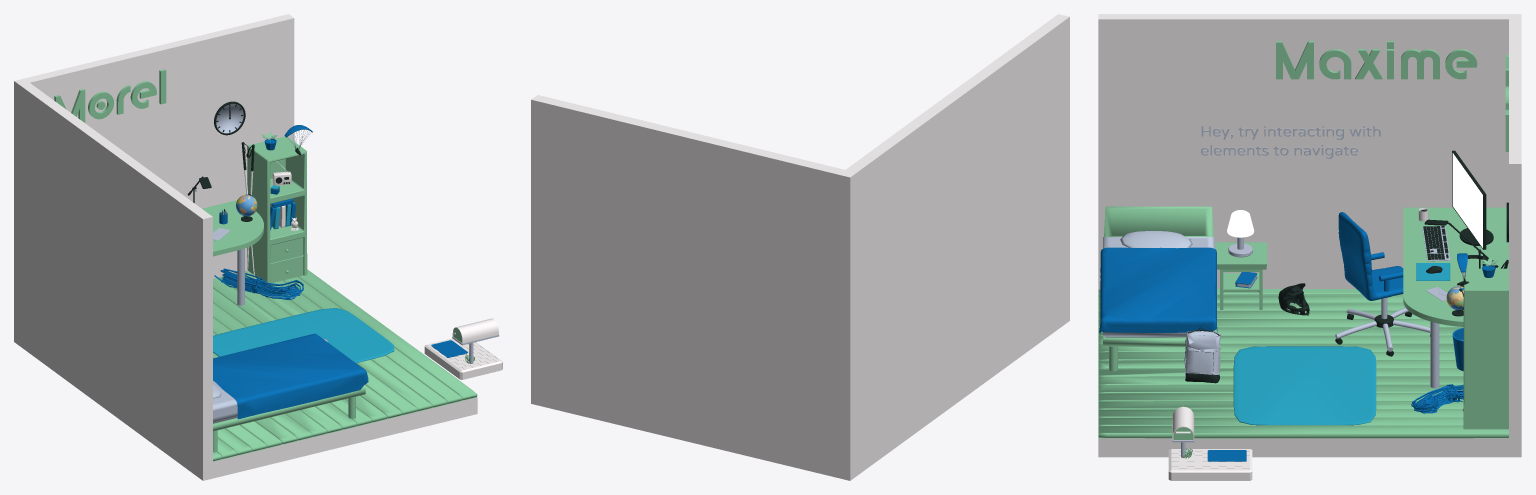
3 views of the same model, side by side, from view 1: azimuth 30°, elevation 25°; view 2: azimuth 150°, elevation 25°; view 3: azimuth 270°, elevation 25° (orthographic). The views are drawn at different scales.
Parts seen in each view (by area): view 1: room, bed, shelve, floormat, table, room-entry, Last name, rope, letter-box, clock, drawer; view 2: room; view 3: room, bed, floormat, shelve, table, chair, Name, room-entry, night table, backpack, screen-video, Text (+7 smaller).
Part boxes in pixels (left/top/right/bottom): room: left=14, top=14, right=477, bottom=480; bed: left=213, top=333, right=368, bottom=452; shelve: left=247, top=136, right=307, bottom=282; floormat: left=213, top=308, right=394, bottom=362; table: left=202, top=200, right=263, bottom=305; room-entry: left=424, top=338, right=502, bottom=379; Last name: left=54, top=69, right=166, bottom=122; rope: left=214, top=268, right=303, bottom=299; letter-box: left=452, top=318, right=499, bottom=363; clock: left=214, top=101, right=245, bottom=135; drawer: left=270, top=257, right=303, bottom=283; room: left=531, top=14, right=1069, bottom=480; room: left=1098, top=14, right=1521, bottom=457; bed: left=1099, top=206, right=1217, bottom=371; floormat: left=1233, top=346, right=1376, bottom=425; shelve: left=1463, top=268, right=1508, bottom=429; table: left=1403, top=207, right=1508, bottom=388; chair: left=1335, top=212, right=1430, bottom=356; Name: left=1276, top=41, right=1477, bottom=79; room-entry: left=1168, top=448, right=1252, bottom=480; night table: left=1215, top=242, right=1267, bottom=309; backpack: left=1184, top=327, right=1220, bottom=383; screen-video: left=1452, top=153, right=1482, bottom=247; Text: left=1201, top=125, right=1380, bottom=158.
Size of the model in its own units: 6.72 by 5.06 by 6.62.
27 materials, 1 textured.
